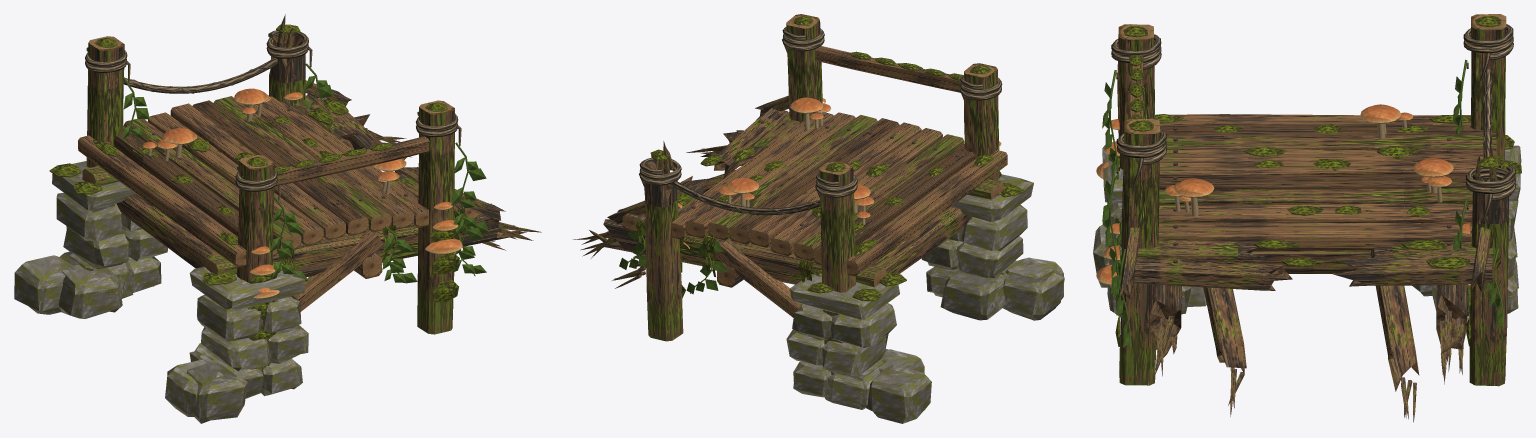
File: SM_BrokenBridge_Left.glb
3 views of the same model, side by side, from view 1: azimuth 30°, elevation 25°; view 2: azimuth 150°, elevation 25°; view 3: azimuth 270°, elevation 25° (orthographic). The views are drawn at different scales.
Visible parts, largest first — view 1: SM_BrokenBridge_Left; view 2: SM_BrokenBridge_Left; view 3: SM_BrokenBridge_Left.
Boxes of the visible parts, x1,y1,x2,y2 form: SM_BrokenBridge_Left: (14, 14, 541, 423); SM_BrokenBridge_Left: (573, 14, 1064, 423); SM_BrokenBridge_Left: (1093, 14, 1521, 422).
Size of the model in its own units: 4.88 by 3.01 by 4.01.
Materials: 1 (1 with a texture image).
